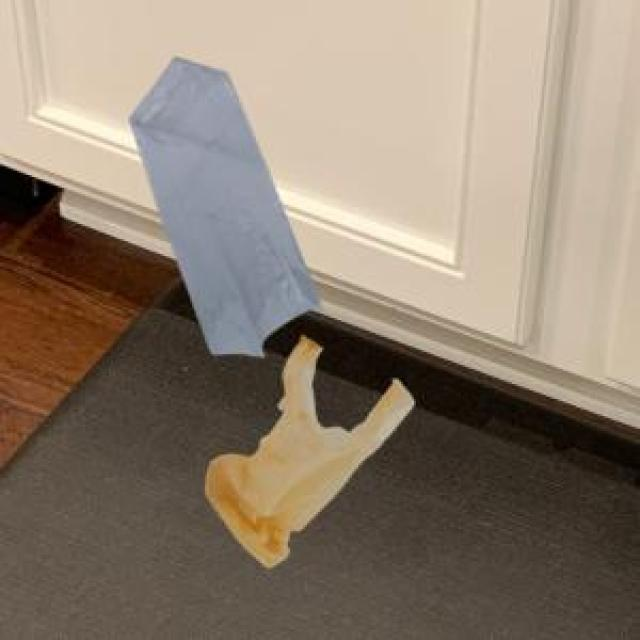waste: (131, 58, 318, 356), (205, 336, 414, 567)
